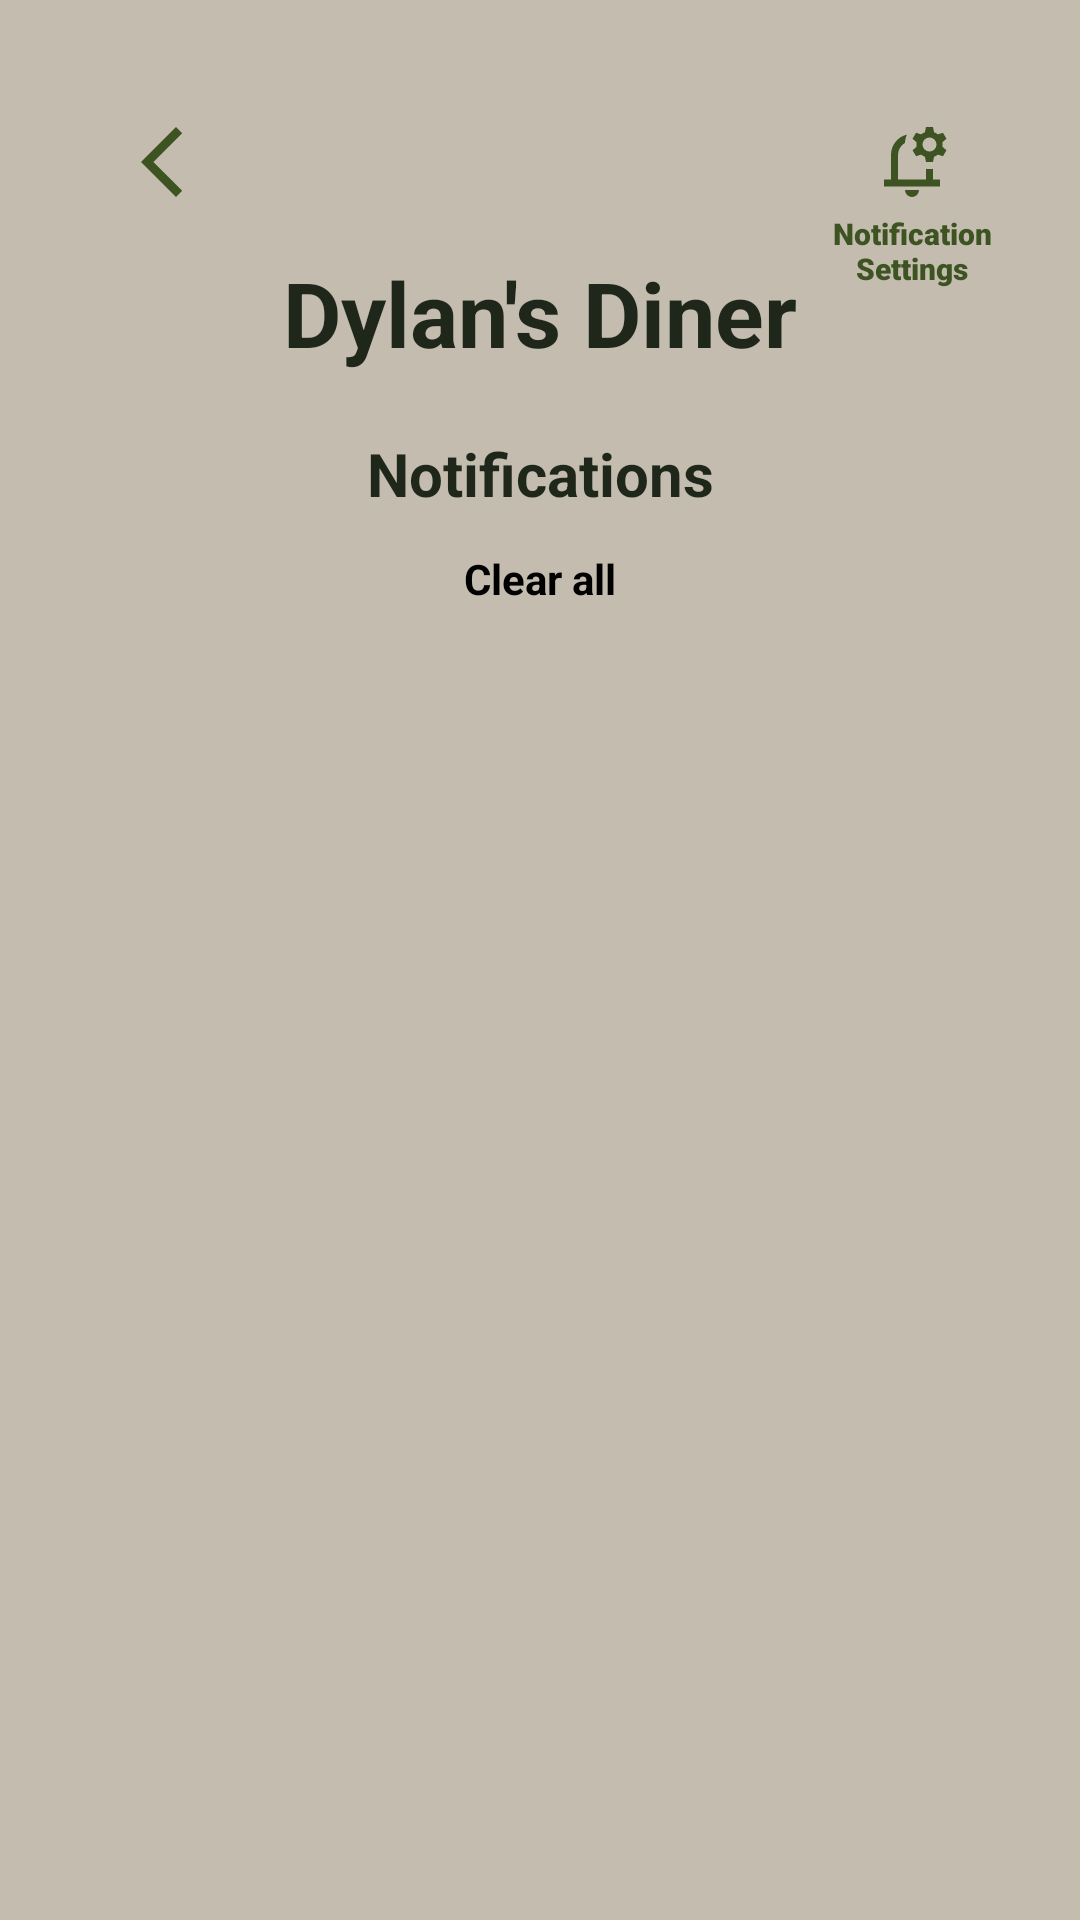

Icon bounding boxes for this 1080 × 1920 phone screenshot, format (x1, y1, x2, y2):
Back: (141, 127, 182, 197)
